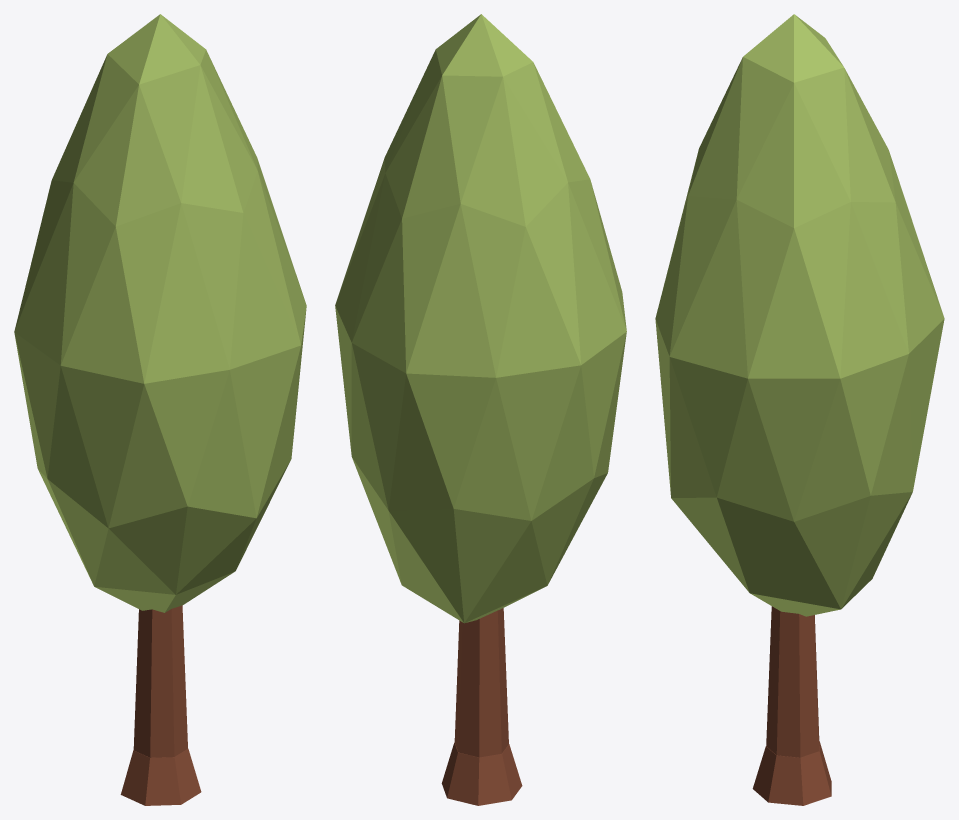
Rendered from Tree_Slim.glb.
3 views of the same model, side by side, from view 1: azimuth 30°, elevation 25°; view 2: azimuth 150°, elevation 25°; view 3: azimuth 270°, elevation 25° (orthographic).
Visible parts, largest first — view 1: Tree_Slim; view 2: Tree_Slim; view 3: Tree_Slim.
Part boxes in pixels (box(x1,y1,x2,y2)): Tree_Slim: box(14, 14, 306, 805); Tree_Slim: box(335, 14, 626, 805); Tree_Slim: box(655, 14, 944, 805).
Bounding box in the file's own units: 1.51 × 4.53 × 1.53.
